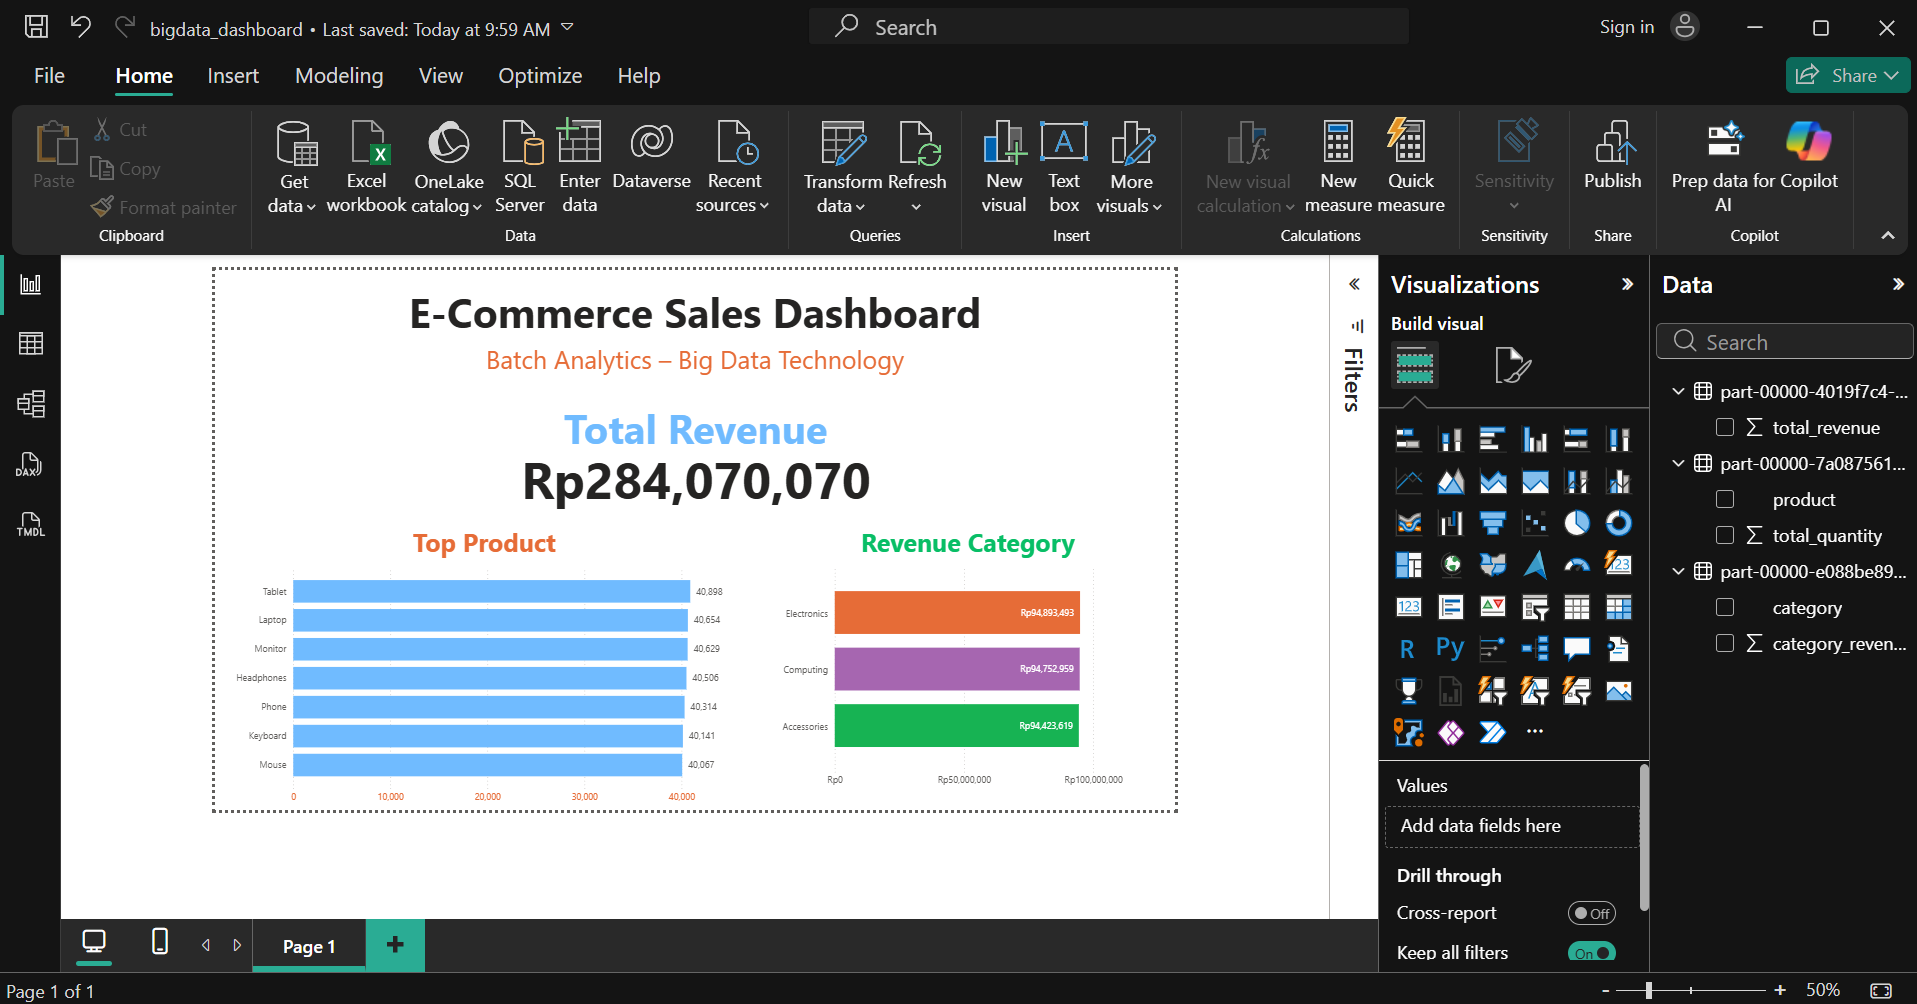

This screenshot's page, from the dashboard's own definition file:
{"tool":"powerbi","page":{"name":"Page 1","canvas":[1280,720],"ordinal":0},"visuals":[{"type":"card","title":"Total Revenue","fields":{"Values":["Sum(part-00000-4019f7c4-6a58-4f3d-a84f-d252d0d673ea-c000.total_revenue)"]},"box":[382,174,518,150],"z":0},{"type":"clusteredBarChart","title":"Top Product","fields":{"Category":["part-00000-7a087561-f9a7-46d1-b3d2-0c3bd7dfb4df-c000.product"],"Y":["Sum(part-00000-7a087561-f9a7-46d1-b3d2-0c3bd7dfb4df-c000.total_quantity)"]},"box":[18,340,682,380],"z":1000},{"type":"clusteredBarChart","title":"Revenue Category","fields":{"Category":["part-00000-e088be89-4235-40f6-be3c-1e3cde66a18e-c000.category"],"Y":["Sum(part-00000-e088be89-4235-40f6-be3c-1e3cde66a18e-c000.category_revenue)"]},"box":[746,340,516,358],"z":2000},{"type":"textbox","title":"E-Commerce Sales Dashboard","box":[230,18,820,156],"z":3000}]}

Visuals, with their boxes on the page's 1280x720 design canvas (x1, y1, x2, y2). These are canvas units, not pixel positions in the 1917x1004 screenshot, which may show the page scaled, cropped or inside an application window:
"Total Revenue" card: pyautogui.locateOnScreen(382, 174, 900, 324)
"Top Product" clusteredBarChart: pyautogui.locateOnScreen(18, 340, 700, 720)
"Revenue Category" clusteredBarChart: pyautogui.locateOnScreen(746, 340, 1262, 698)
"E-Commerce Sales Dashboard" textbox: pyautogui.locateOnScreen(230, 18, 1050, 174)
